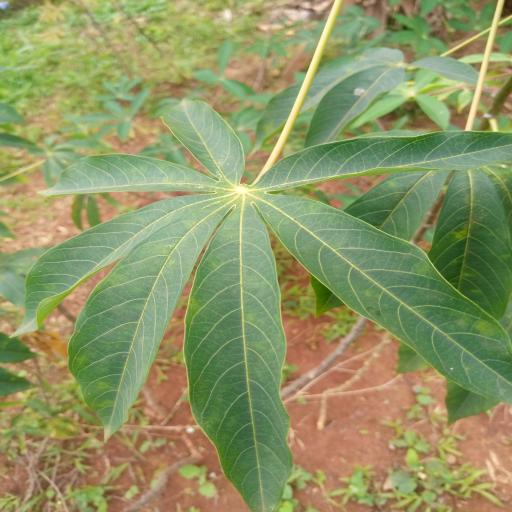Cassava_Mosaic: (12, 96, 512, 512)
